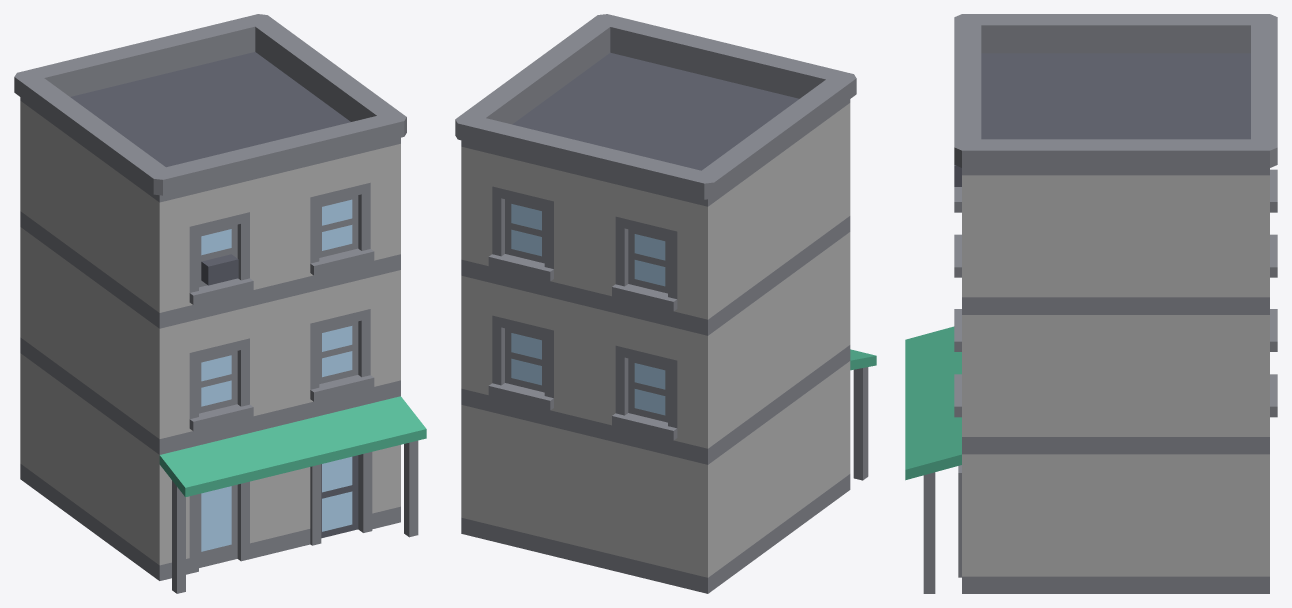
File: Small Building D.glb
3 renders of one model, left to right at view 1: azimuth 30°, elevation 25°; view 2: azimuth 150°, elevation 25°; view 3: azimuth 270°, elevation 25°, orthographic. The views are drawn at different scales.
Parts seen in each view (by area): view 1: small_buildingD; view 2: small_buildingD; view 3: small_buildingD.
Boxes of the visible parts, bbox=[...] form: small_buildingD: bbox=[14, 14, 426, 593]; small_buildingD: bbox=[455, 14, 876, 593]; small_buildingD: bbox=[905, 14, 1277, 593].
Bounding box in the file's own units: 0.84 × 1.28 × 0.9679.
